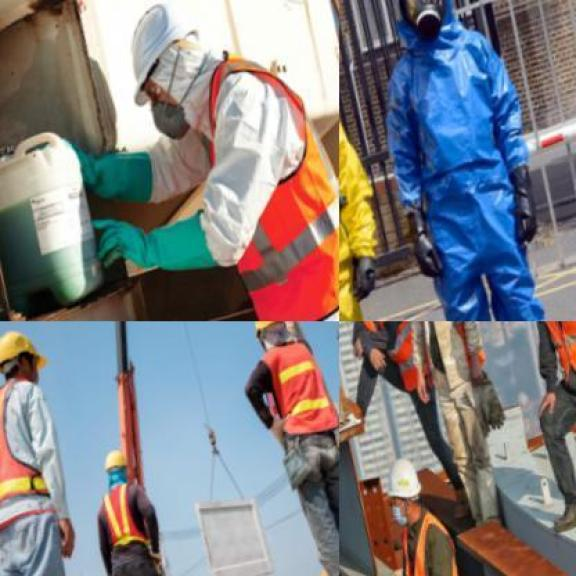safety_vest: (355, 8, 574, 320), (159, 29, 338, 320), (339, 83, 443, 320), (249, 330, 338, 466), (0, 362, 73, 526), (339, 322, 439, 422), (392, 321, 497, 393), (389, 508, 482, 575), (96, 478, 159, 569), (520, 321, 574, 411)
